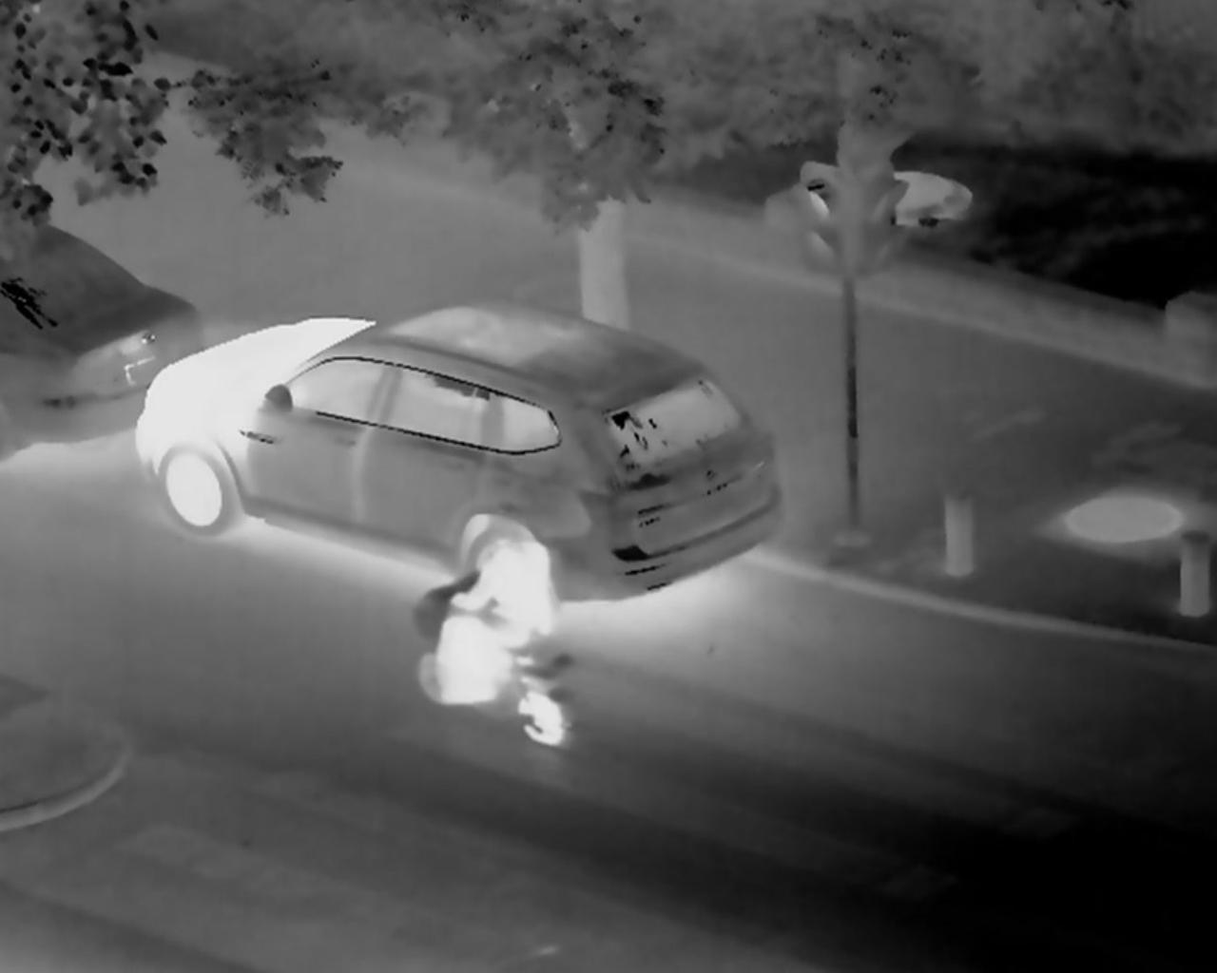person: (447, 486, 576, 719)
